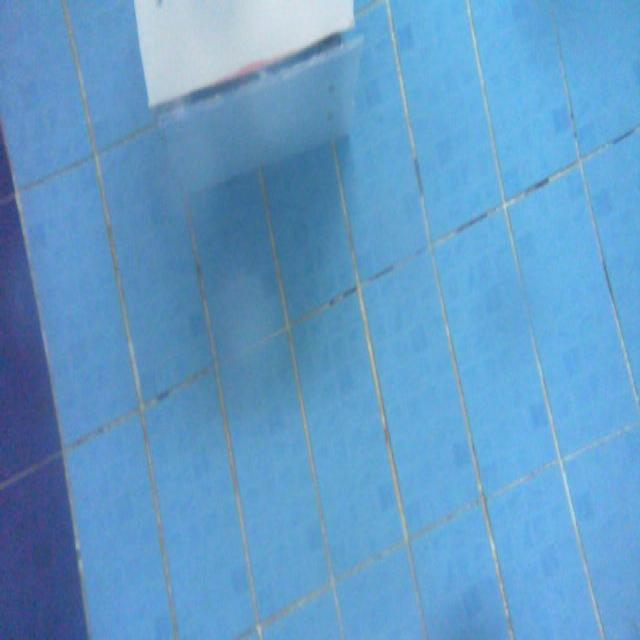Cube: (138, 0, 356, 206)
